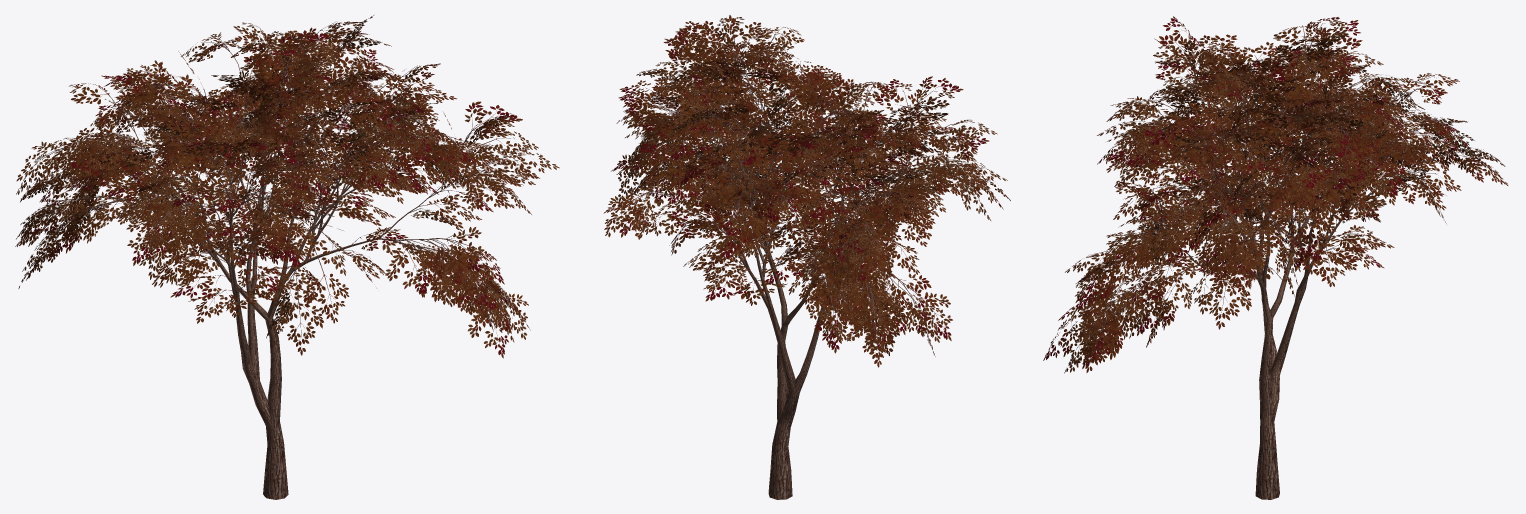
File: tree.obj
The picture shows the model from 3 angles, left to right: view 1: azimuth 30°, elevation 25°; view 2: azimuth 150°, elevation 25°; view 3: azimuth 270°, elevation 25°; orthographic projection. The views are drawn at different scales.
Visible parts, largest first — view 1: Tree_Tree_polySurface1SG1, Tree_Tree_Trank_bark; view 2: Tree_Tree_polySurface1SG1, Tree_Tree_Trank_bark; view 3: Tree_Tree_polySurface1SG1, Tree_Tree_Trank_bark.
Part boxes in pixels (<box>): Tree_Tree_polySurface1SG1: <box>15,15,559,358</box>; Tree_Tree_Trank_bark: <box>43,36,495,499</box>; Tree_Tree_polySurface1SG1: <box>603,15,1010,367</box>; Tree_Tree_Trank_bark: <box>644,49,961,499</box>; Tree_Tree_polySurface1SG1: <box>1043,16,1508,373</box>; Tree_Tree_Trank_bark: <box>1085,51,1453,499</box>.
Size of the model in its own units: 3.63 by 3.82 by 3.55.
2 materials, 2 textured.
